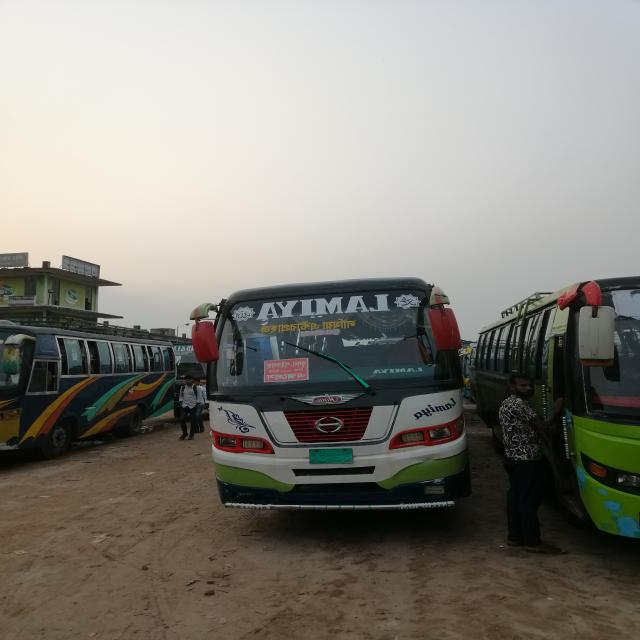Bus: (186, 266, 478, 519)
